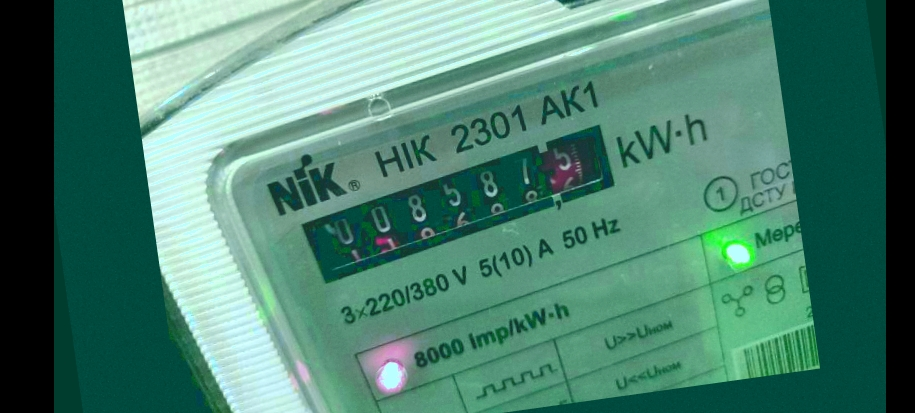0: (366, 198, 397, 235), (330, 211, 360, 247)
5: (440, 175, 467, 209), (549, 138, 576, 171)
6: (559, 172, 579, 192)
7: (512, 152, 539, 189)
8: (475, 164, 503, 200), (404, 189, 432, 224)
screen: (285, 118, 646, 287)
